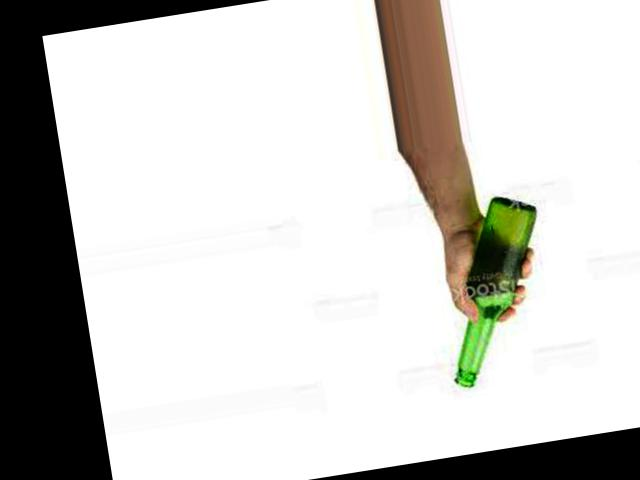beer: (426, 193, 562, 391)
